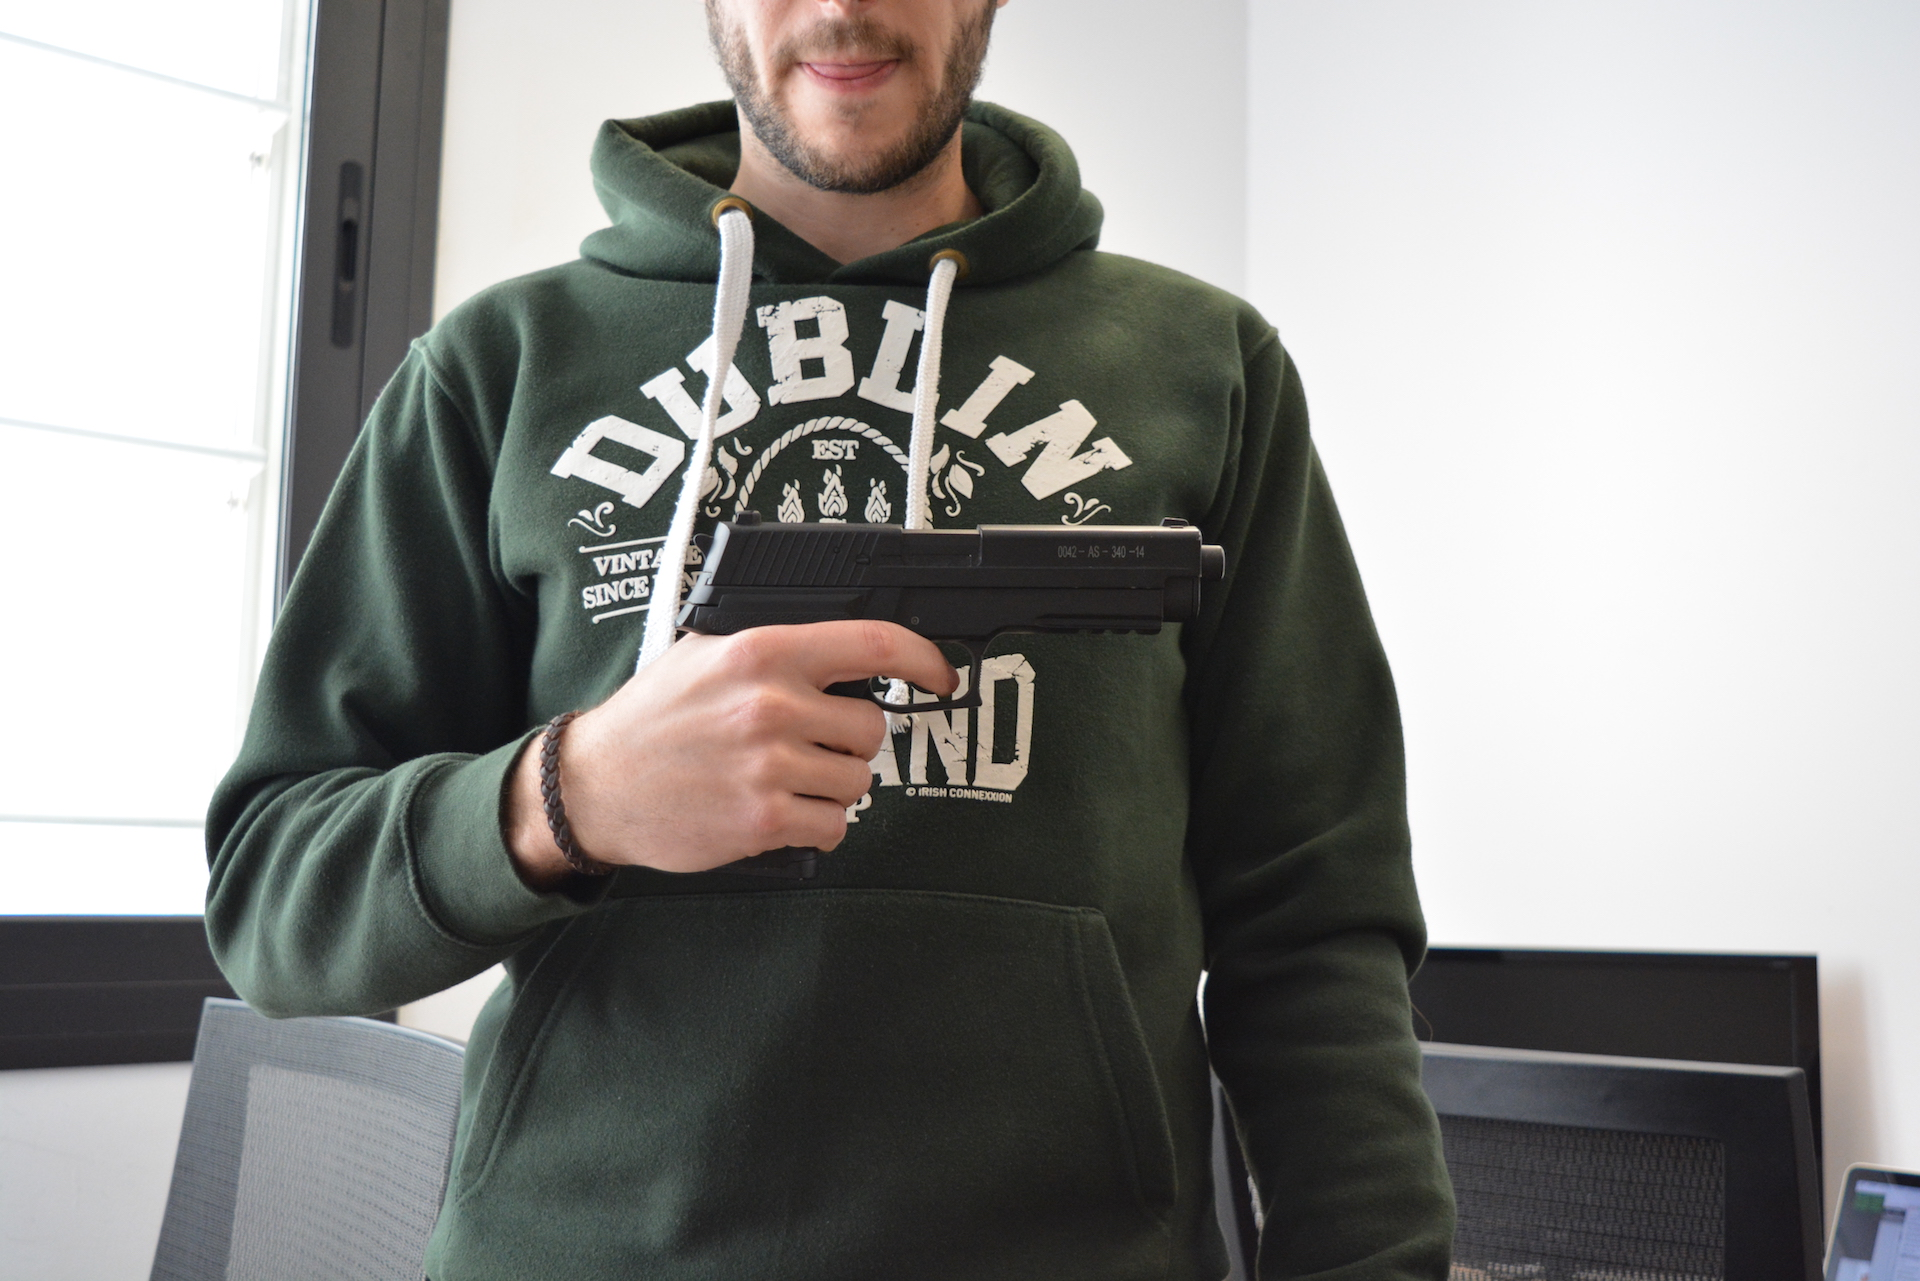pistol: (670, 508, 1229, 889)
